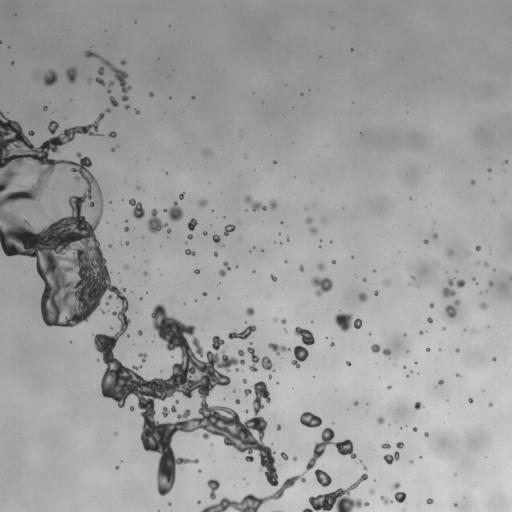droplet: (268, 326, 314, 368), (247, 342, 274, 371), (334, 311, 362, 331), (147, 208, 167, 233), (441, 278, 465, 297), (311, 276, 333, 296), (163, 201, 183, 221), (300, 412, 321, 427), (314, 469, 331, 486), (445, 299, 460, 317), (207, 479, 219, 499), (43, 69, 57, 86), (383, 451, 399, 464), (162, 405, 177, 417), (66, 67, 77, 83), (212, 233, 223, 248), (219, 261, 230, 276), (224, 224, 235, 235), (187, 218, 197, 230), (109, 96, 118, 106), (358, 292, 367, 301), (198, 199, 207, 207), (245, 307, 254, 315), (309, 226, 317, 234), (430, 232, 438, 240), (139, 353, 147, 361), (414, 401, 422, 409), (203, 149, 212, 156), (479, 302, 488, 309), (377, 416, 384, 425), (185, 249, 195, 255), (392, 482, 400, 489), (306, 216, 313, 223), (317, 263, 324, 270), (108, 131, 116, 137), (281, 452, 287, 460), (381, 443, 390, 448), (270, 275, 277, 281), (396, 442, 403, 448), (426, 498, 433, 504), (383, 280, 389, 286), (427, 317, 433, 323), (280, 318, 286, 324), (179, 192, 184, 199), (108, 81, 114, 86), (124, 104, 130, 109), (438, 379, 443, 385), (120, 60, 125, 65), (135, 109, 140, 114), (470, 180, 475, 185), (187, 234, 192, 239), (448, 250, 453, 255), (483, 262, 488, 267), (123, 264, 128, 269), (194, 269, 199, 274), (488, 281, 493, 286), (137, 330, 142, 335), (468, 398, 473, 403), (276, 425, 281, 430), (369, 489, 374, 494), (299, 265, 303, 271), (87, 79, 92, 83), (149, 92, 153, 97), (124, 226, 128, 231), (167, 228, 171, 233), (423, 239, 428, 243), (475, 246, 480, 250), (374, 290, 378, 295), (429, 303, 434, 307), (242, 378, 246, 383), (235, 399, 240, 403), (107, 89, 111, 93), (43, 106, 47, 110), (106, 108, 110, 112), (136, 186, 140, 190), (203, 231, 207, 235), (213, 252, 217, 256), (143, 271, 147, 275), (100, 309, 104, 313), (330, 342, 334, 346), (346, 361, 350, 365), (456, 373, 460, 377), (387, 385, 391, 389), (354, 401, 358, 405), (488, 402, 492, 406), (130, 406, 134, 410), (413, 427, 417, 431), (424, 432, 428, 436), (111, 147, 114, 151), (273, 160, 276, 164), (503, 160, 507, 163), (105, 301, 108, 305), (419, 331, 423, 334), (426, 347, 429, 351), (455, 349, 459, 352), (492, 357, 496, 360), (453, 503, 457, 506), (488, 168, 491, 171), (125, 241, 128, 244), (332, 260, 335, 263), (411, 276, 414, 279), (203, 292, 206, 295), (442, 327, 445, 330), (235, 368, 238, 371), (175, 400, 178, 403), (245, 410, 248, 413), (293, 457, 296, 460), (363, 466, 366, 469), (198, 469, 201, 472), (197, 500, 200, 503), (192, 96, 194, 99), (286, 238, 289, 240), (109, 244, 111, 247), (284, 260, 287, 262), (252, 270, 255, 272), (363, 278, 365, 281), (274, 318, 276, 321), (284, 329, 286, 332), (403, 366, 406, 368), (269, 375, 271, 378), (114, 432, 117, 434), (410, 460, 412, 463), (115, 466, 118, 468), (168, 503, 171, 505), (402, 509, 405, 511), (11, 62, 13, 64), (410, 197, 412, 199), (351, 255, 353, 257), (127, 334, 129, 336), (404, 334, 406, 336), (407, 374, 409, 376)
ligament: (0, 111, 356, 511), (302, 475, 369, 511), (85, 50, 130, 101), (243, 195, 277, 211), (228, 325, 255, 339), (129, 198, 144, 219), (380, 492, 406, 504), (370, 343, 391, 355), (95, 67, 105, 85), (472, 278, 477, 284), (509, 275, 511, 280), (0, 40, 1, 43)
